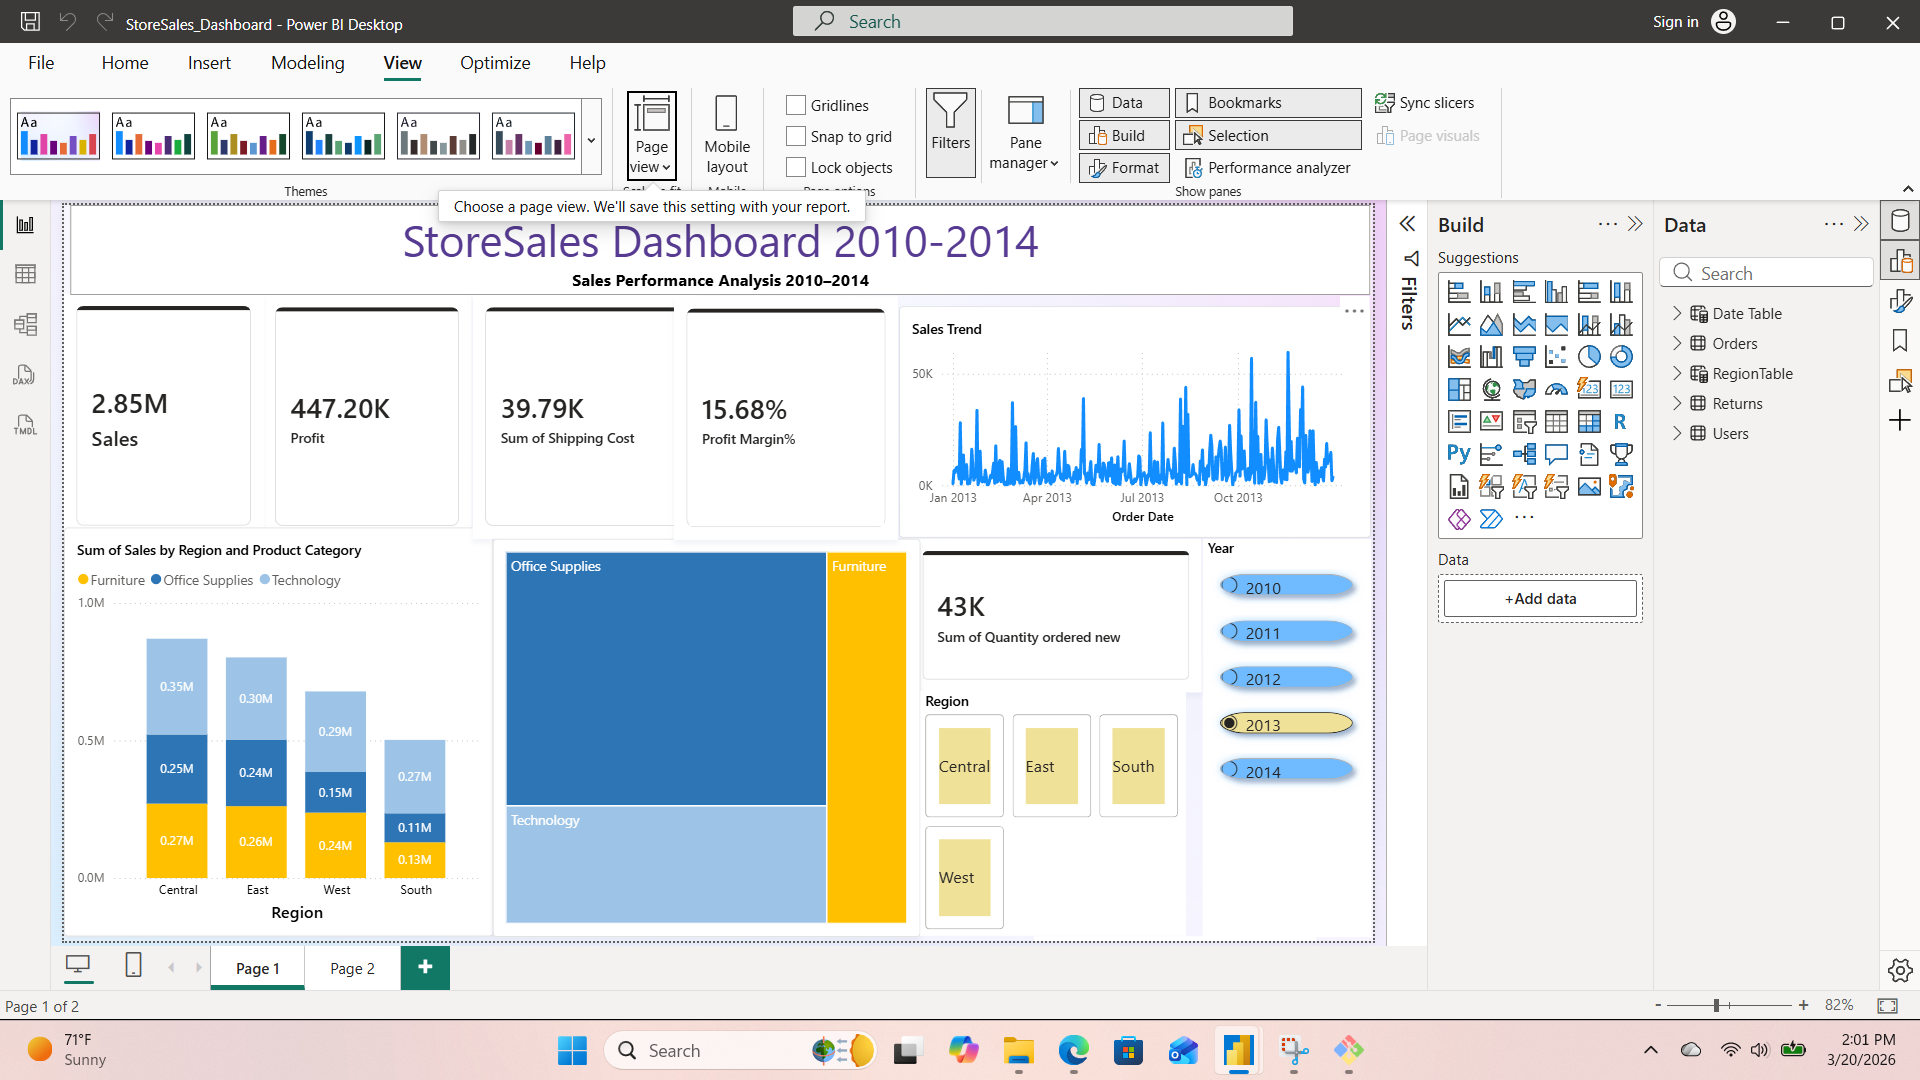

The page's visual inventory and layout, read from the dashboard file:
{"tool":"powerbi","page":{"name":"Page 1","canvas":[1280,720],"ordinal":0},"visuals":[{"type":"cardVisual","fields":{"Data":["Sum(Orders.Profit)"]},"box":[194.8,88,204.9,238.1],"z":0},{"type":"cardVisual","fields":{"Data":["Sum(Orders.Sales)"]},"box":[0,86.9,195,239.3],"z":1000},{"type":"columnChart","fields":{"Category":["Orders.Region"],"Y":["Sum(Orders.Sales)"],"Series":["Orders.Product Category"]},"box":[0,316,419.8,399.6],"z":2000},{"type":"cardVisual","fields":{"Data":["Sum(Orders.Shipping Cost)"]},"box":[399.6,88,219.3,238.1],"z":3000},{"type":"listSlicer","fields":{"Values":["Users.Manager","Orders.Region"]},"box":[577,731.1,203.3,237.7],"z":4000},{"type":"lineChart","title":"Sales Trend ","fields":{"Category":["Orders.Order Date Hierarchy.Order Date"],"Y":["Sum(Orders.Sales)"]},"box":[816.6,99.6,461.7,226.5],"z":5000},{"type":"cardVisual","fields":{"Data":["Sum(Orders.Quantity ordered new)"]},"box":[828.1,326.1,285.7,150],"z":6000},{"type":"hundredPercentStackedBarChart","fields":{"Category":["Orders.Region"],"Y":["Sum(Orders.Sales)"],"Series":["Orders.Product Category"]},"box":[0,731,420,269],"z":7000},{"type":"cardVisual","fields":{"Data":["Sum(Orders.Discount)"]},"box":[948.9,714.9,276.6,268.1],"z":8000},{"type":"tableEx","box":[780,731,150,269],"z":9000},{"type":"treemap","fields":{"Group":["Orders.Product Category"],"Values":["Sum(Orders.Quantity ordered new)"]},"box":[419.8,326.1,418.4,389.5],"z":10000},{"type":"listSlicer","fields":{"Values":["Date Table.Year"]},"box":[1113.8,326.1,164.5,389.5],"z":11000},{"type":"textbox","box":[5.8,0,1272.5,88],"z":12000},{"type":"cardVisual","fields":{"Data":["Orders.Profit Margin%"]},"box":[597.3,89.5,219.3,238.1],"z":13000},{"type":"advancedSlicerVisual","fields":{"Values":["Orders.Region"]},"box":[838.2,476.1,259.7,239.5],"z":14000}]}

Visuals, with their boxes on the page's 1280x720 design canvas (x1, y1, x2, y2). These are canvas units, not pixel positions in the 1920x1080 screenshot, which may show the page scaled, cropped or inside an application window:
cardVisual - Sum(Orders.Profit): bbox(195, 88, 400, 326)
cardVisual - Sum(Orders.Sales): bbox(0, 87, 195, 326)
columnChart - Orders.Region x Sum(Orders.Sales): bbox(0, 316, 420, 716)
cardVisual - Sum(Orders.Shipping Cost): bbox(400, 88, 619, 326)
listSlicer - Users.Manager x Orders.Region: bbox(577, 731, 780, 969)
"Sales Trend " lineChart: bbox(817, 100, 1278, 326)
cardVisual - Sum(Orders.Quantity ordered new): bbox(828, 326, 1114, 476)
hundredPercentStackedBarChart - Orders.Region x Sum(Orders.Sales): bbox(0, 731, 420, 1000)
cardVisual - Sum(Orders.Discount): bbox(949, 715, 1226, 983)
tableEx: bbox(780, 731, 930, 1000)
treemap - Orders.Product Category x Sum(Orders.Quantity ordered new): bbox(420, 326, 838, 716)
listSlicer - Date Table.Year: bbox(1114, 326, 1278, 716)
textbox: bbox(6, 0, 1278, 88)
cardVisual - Orders.Profit Margin%: bbox(597, 90, 817, 328)
advancedSlicerVisual - Orders.Region: bbox(838, 476, 1098, 716)
